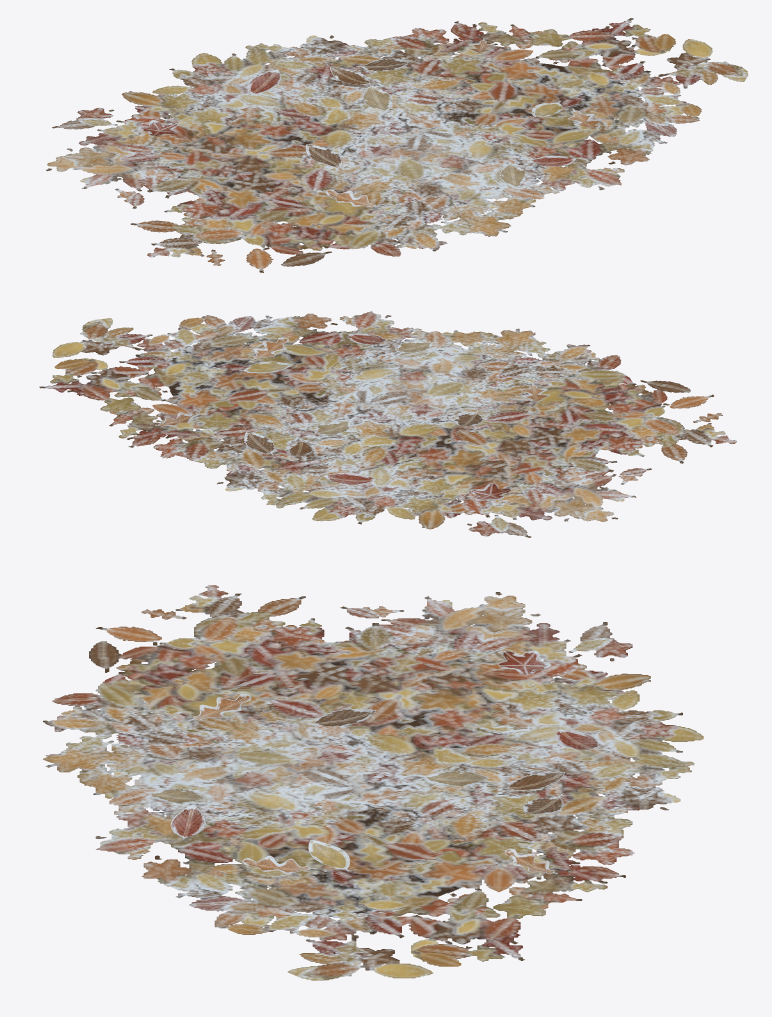
Rendered from fm_leaf_litter_patch_medium_frost.glb.
3 renders of one model, top to bottom at view 1: azimuth 30°, elevation 25°; view 2: azimuth 150°, elevation 25°; view 3: azimuth 270°, elevation 25°, orthographic. The views are drawn at different scales.
Parts seen in each view (by area): view 1: fm_leaf_litter_patch_medium_frost; view 2: fm_leaf_litter_patch_medium_frost; view 3: fm_leaf_litter_patch_medium_frost.
Part boxes in pixels (bbox=[...]): fm_leaf_litter_patch_medium_frost: bbox=[46, 18, 748, 272]; fm_leaf_litter_patch_medium_frost: bbox=[39, 311, 736, 537]; fm_leaf_litter_patch_medium_frost: bbox=[43, 585, 703, 980].
Bounding box in the file's own units: 1.6 × 0.0254 × 1.17.
2 materials, 2 textured.
